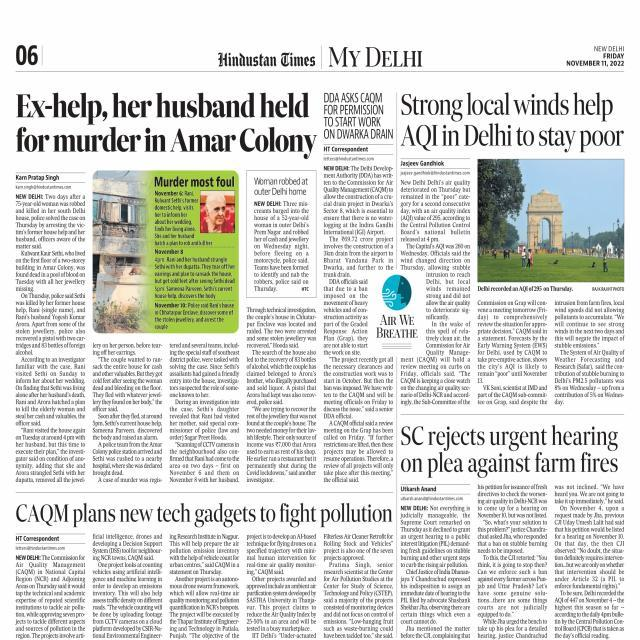Article: (9, 81, 319, 488), (398, 87, 628, 410), (10, 495, 395, 640), (397, 423, 630, 640), (320, 86, 396, 490)
Body: (322, 161, 394, 487), (14, 190, 86, 485), (398, 177, 472, 408), (245, 306, 318, 486), (478, 481, 550, 640), (554, 483, 626, 640), (90, 340, 164, 484), (168, 342, 241, 484), (399, 503, 472, 640), (476, 298, 550, 407), (244, 532, 318, 640), (91, 531, 164, 640), (552, 297, 624, 407), (168, 531, 240, 640), (322, 532, 394, 640), (152, 248, 234, 332), (14, 550, 85, 640), (154, 190, 196, 240)
Date: (565, 51, 626, 70)
Heading: (12, 87, 318, 162), (402, 90, 625, 154), (399, 424, 621, 478), (14, 500, 394, 530), (323, 88, 395, 142)
Highlights: (252, 174, 312, 294), (154, 176, 235, 190)
Image: (478, 158, 623, 282), (94, 168, 150, 332), (200, 188, 236, 232)
Name: (326, 44, 424, 71), (217, 50, 317, 68)
